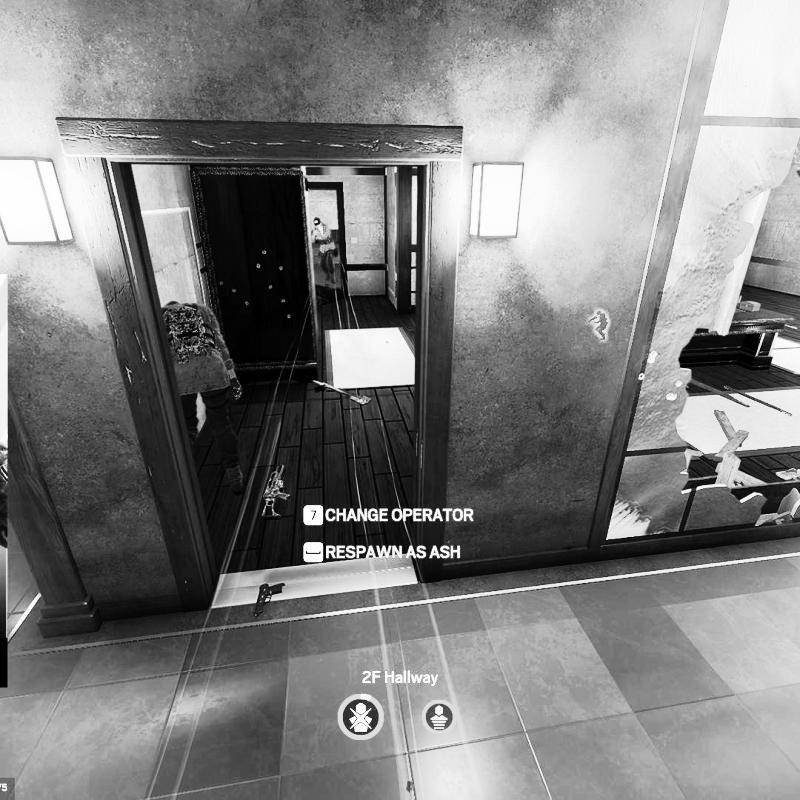Character: (160, 299, 247, 498), (310, 217, 340, 284)
Head: (313, 217, 322, 230)
